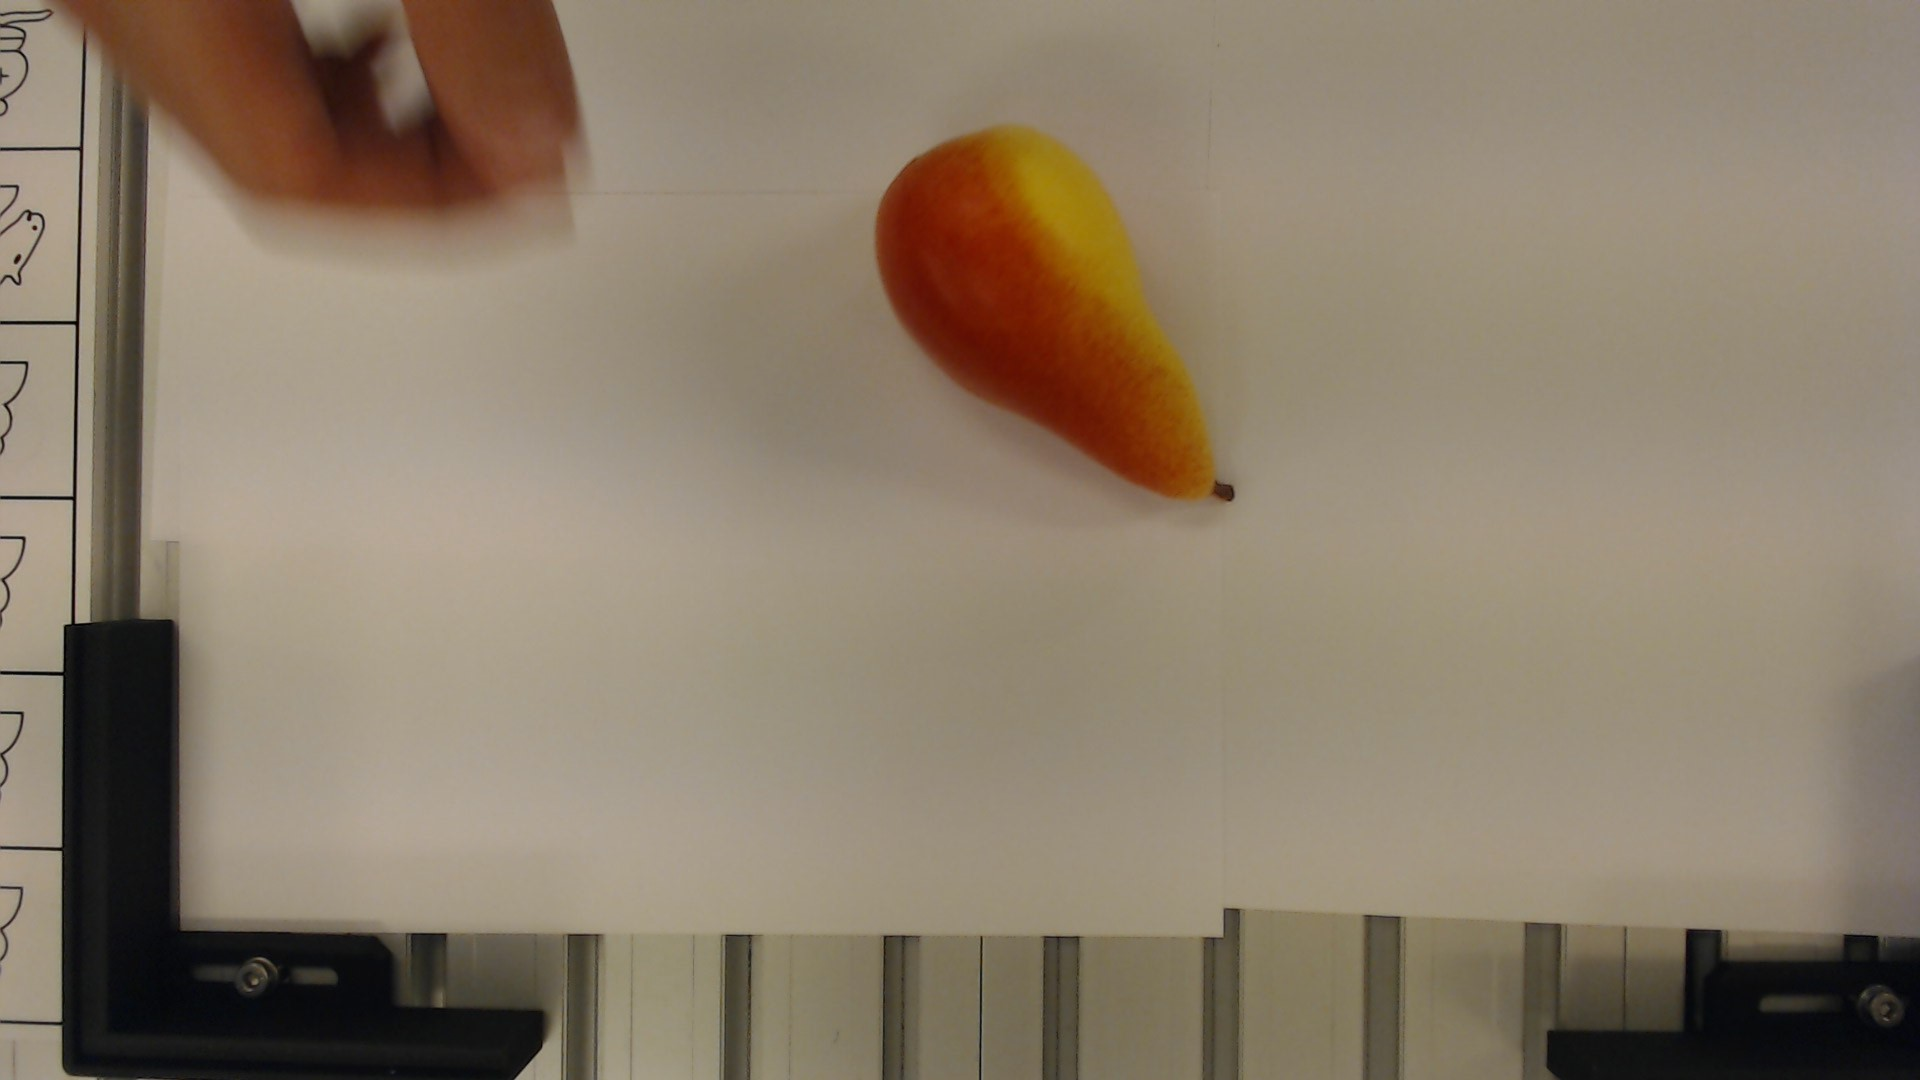Pear: (867, 131, 1248, 506)
